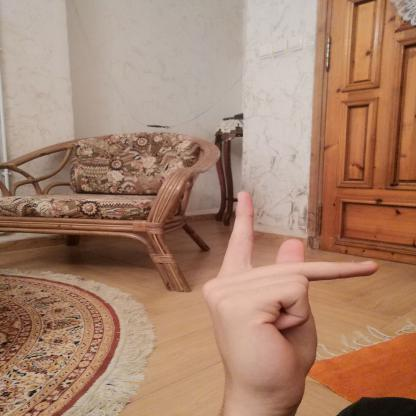DHAA: (190, 182, 388, 396)
